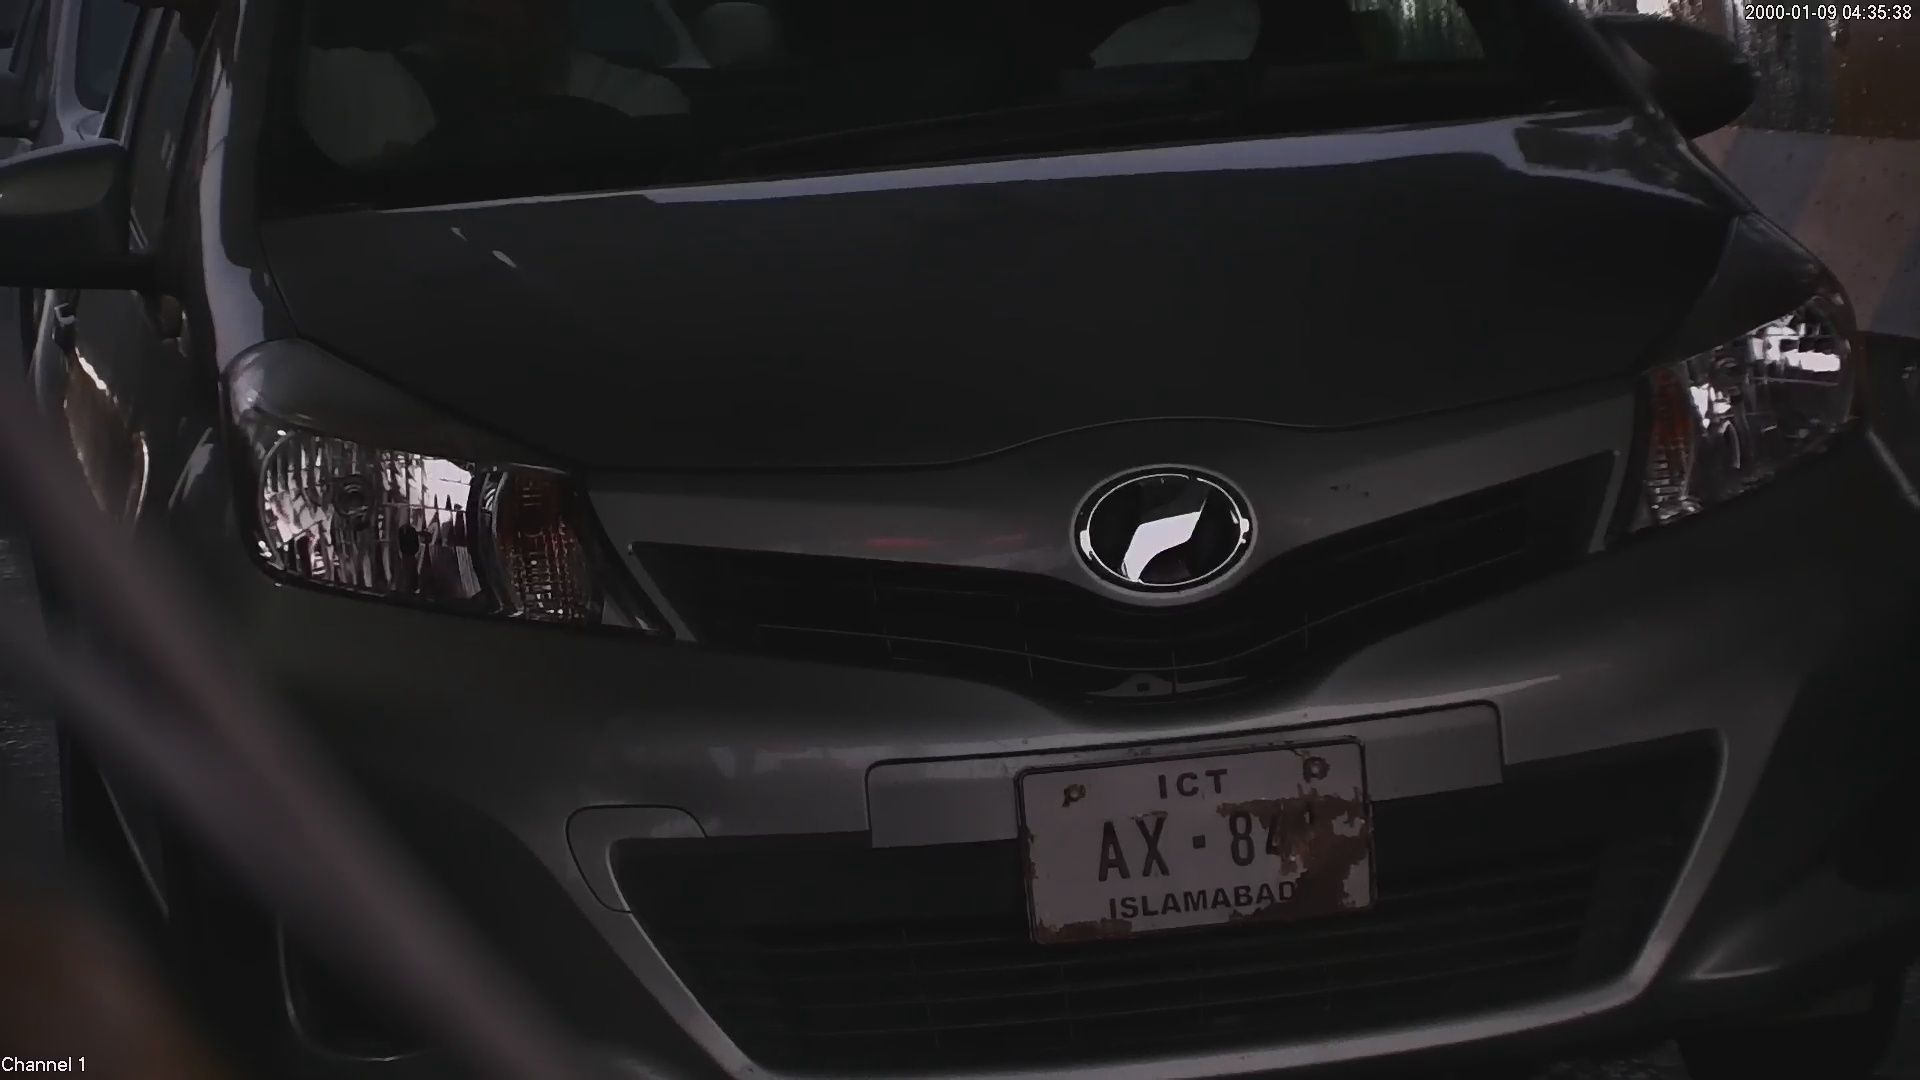Number_Plate: (1002, 744, 1393, 940)
Undefined: (239, 438, 602, 612), (1647, 316, 1852, 523), (1073, 453, 1243, 590)
